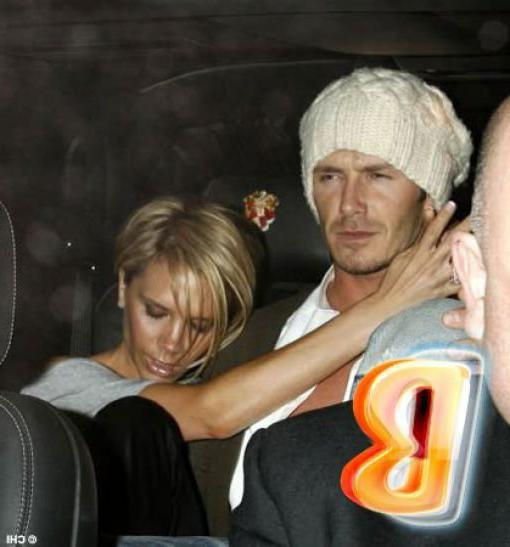Drunk: (312, 153, 419, 275), (127, 239, 215, 382)
